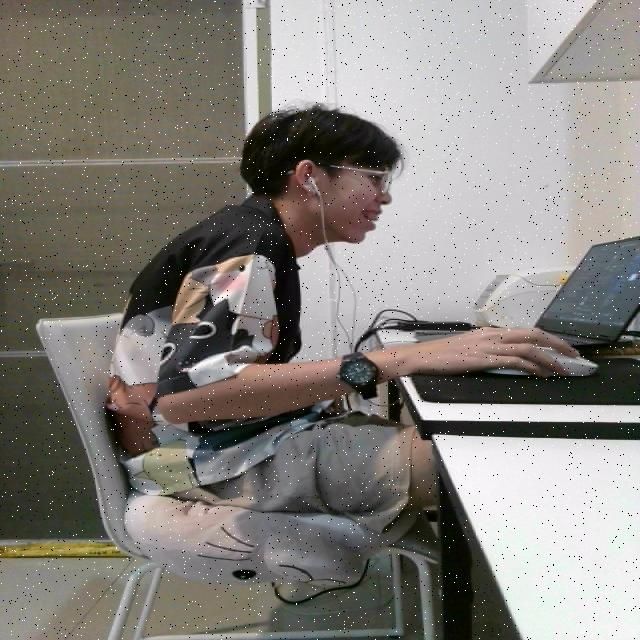Bad: (99, 93, 428, 539)
